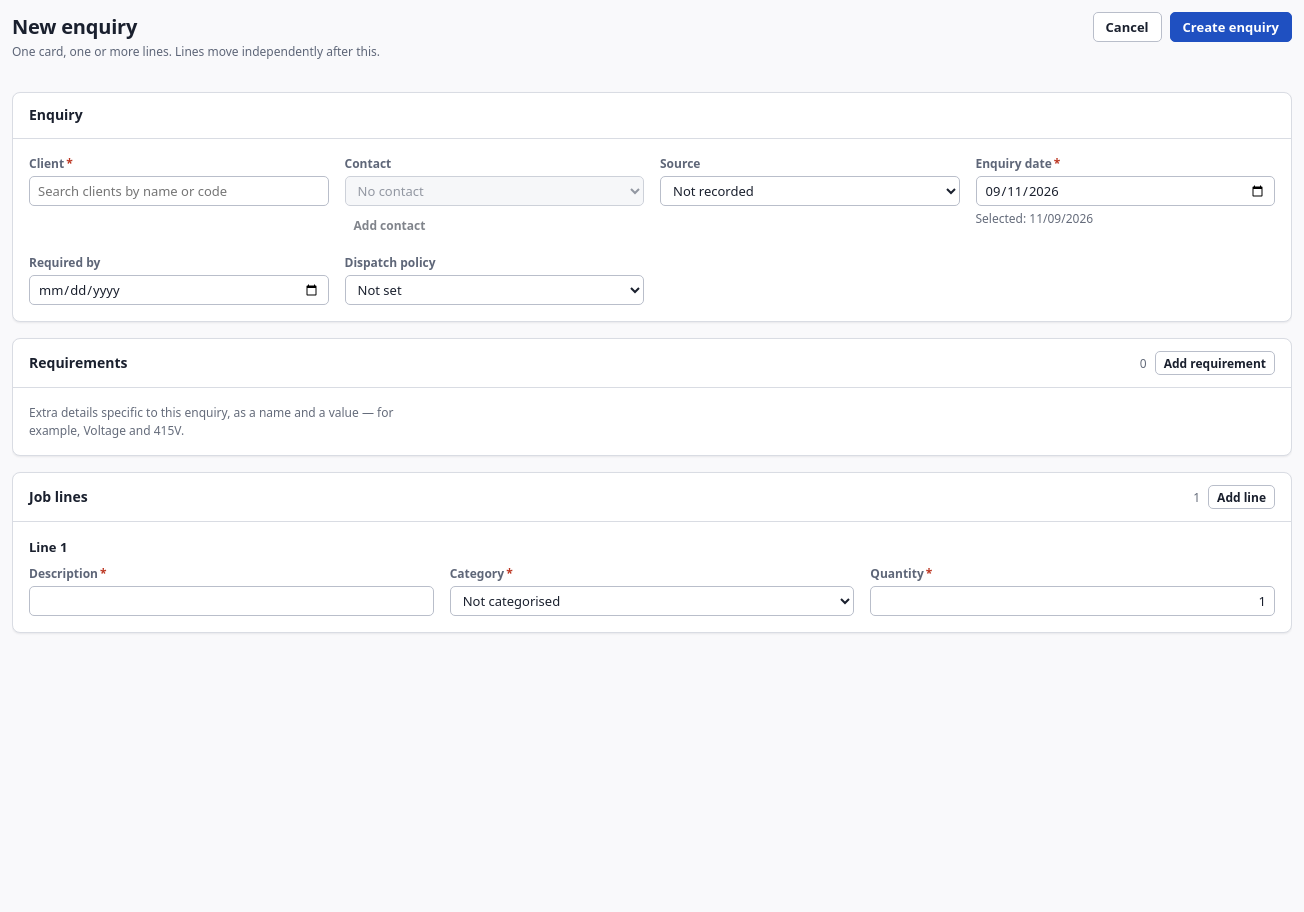
Test: NewJobCardPage › refuses to submit without a client and says why
Click the button "Create enquiry": (1231, 27) [1170, 12, 1292, 42]
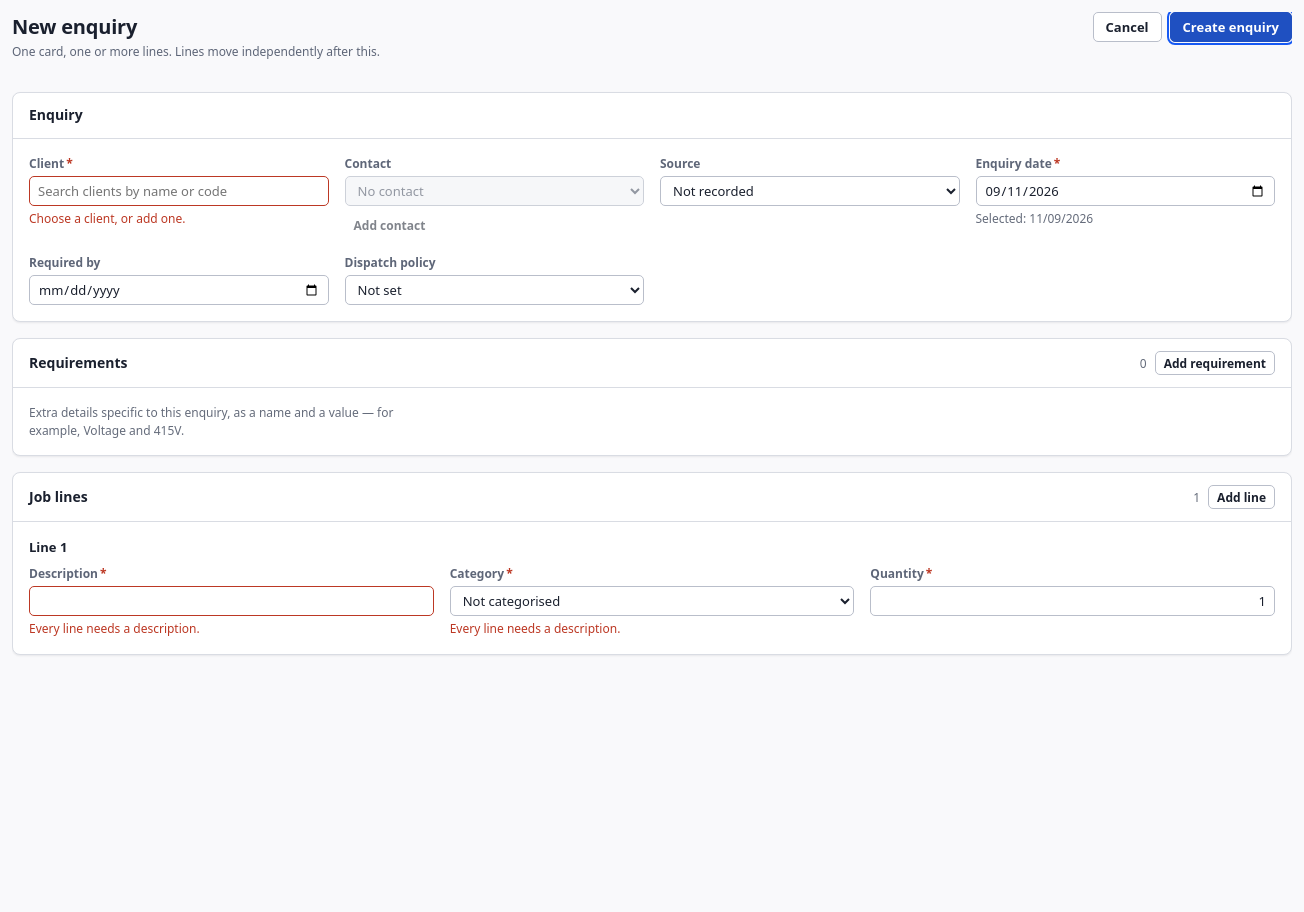
Expected: the text "Choose a client, or add one." is shown, [29, 210, 185, 227]
